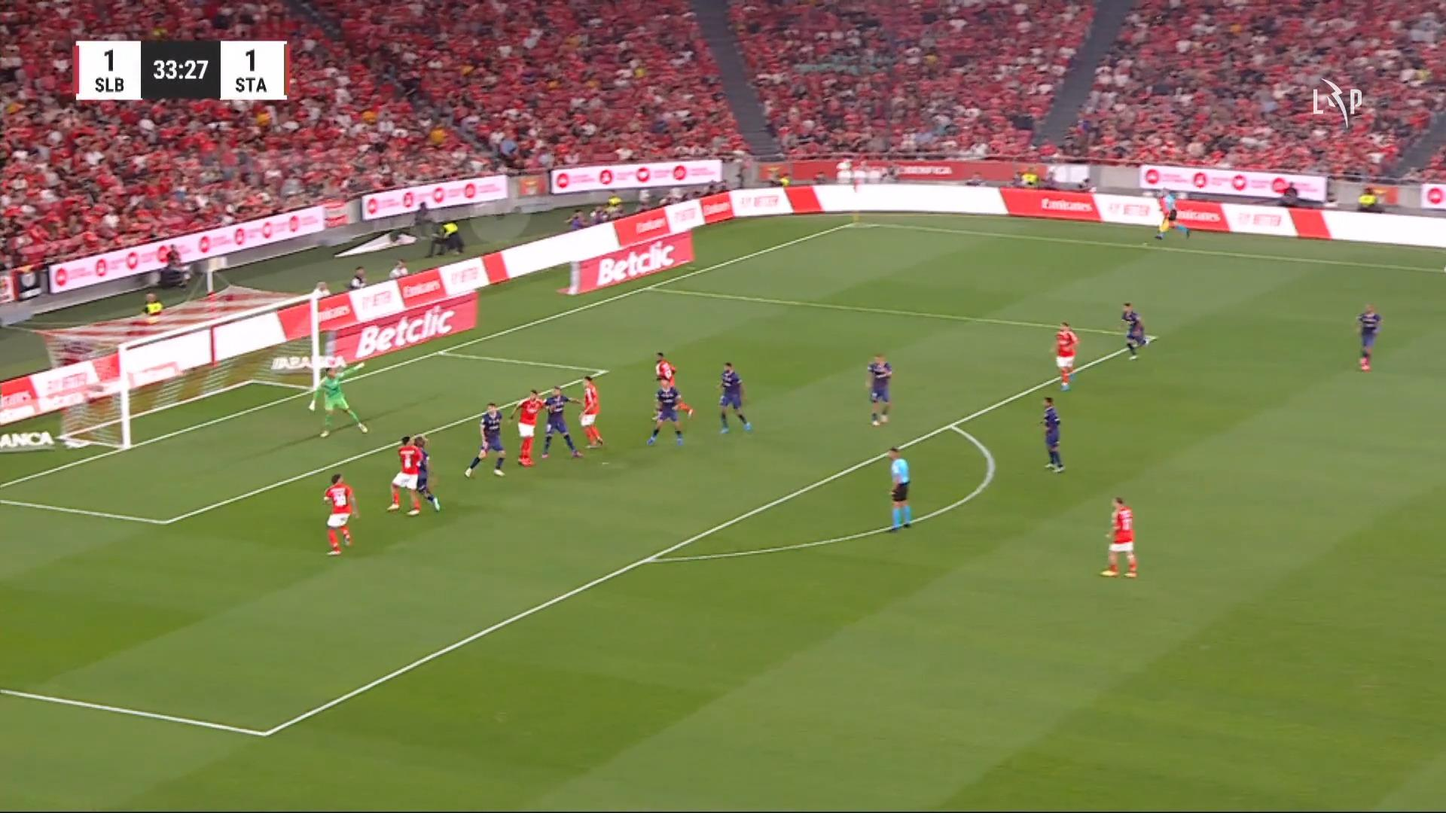goalkeeper: (307, 361, 368, 437)
player: (463, 401, 507, 478), (646, 376, 694, 446), (539, 385, 584, 459), (1100, 495, 1138, 577), (385, 434, 423, 516), (322, 472, 359, 556), (508, 388, 545, 467), (716, 361, 752, 434), (410, 434, 441, 513), (865, 353, 893, 426), (1039, 396, 1065, 473), (578, 374, 604, 449), (1355, 303, 1382, 371), (1054, 321, 1079, 391), (1120, 301, 1146, 360), (653, 350, 677, 388)
referee: (886, 445, 912, 531), (1153, 187, 1190, 240)
